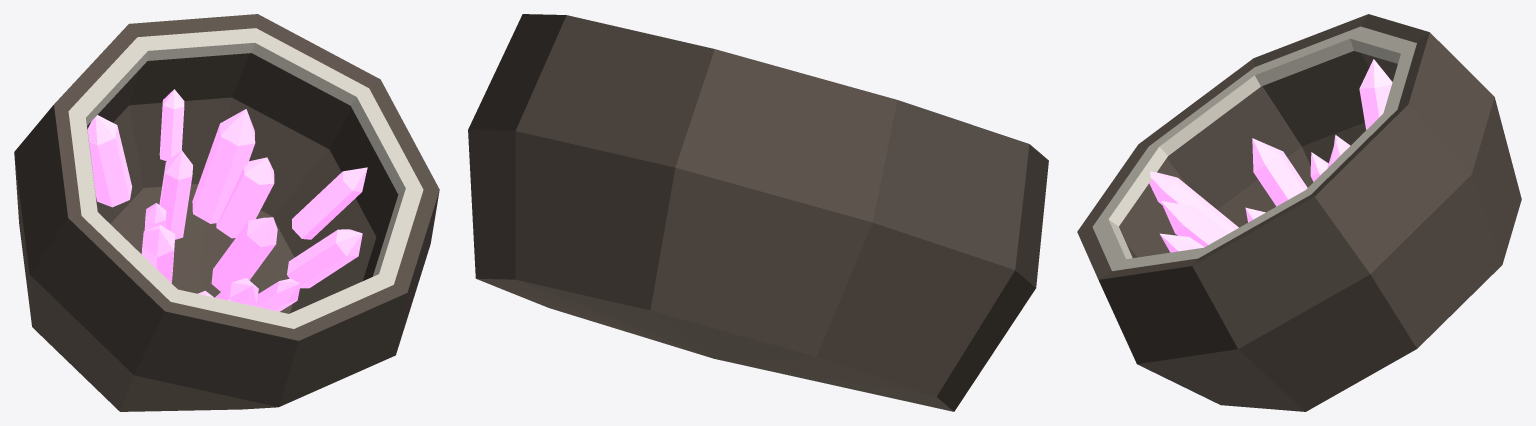
File: mine_geode.fbx
3 views of the same model, side by side, from view 1: azimuth 30°, elevation 25°; view 2: azimuth 150°, elevation 25°; view 3: azimuth 270°, elevation 25° (orthographic). The views are drawn at different scales.
Visible parts, largest first — view 1: mine_geode; view 2: mine_geode; view 3: mine_geode.
Part boxes in pixels (x1,y1,x2,y2): mine_geode: (14, 14, 439, 411); mine_geode: (468, 14, 1048, 411); mine_geode: (1077, 14, 1521, 411).
Bounding box in the file's own units: 1.84 × 1.46 × 1.85.
